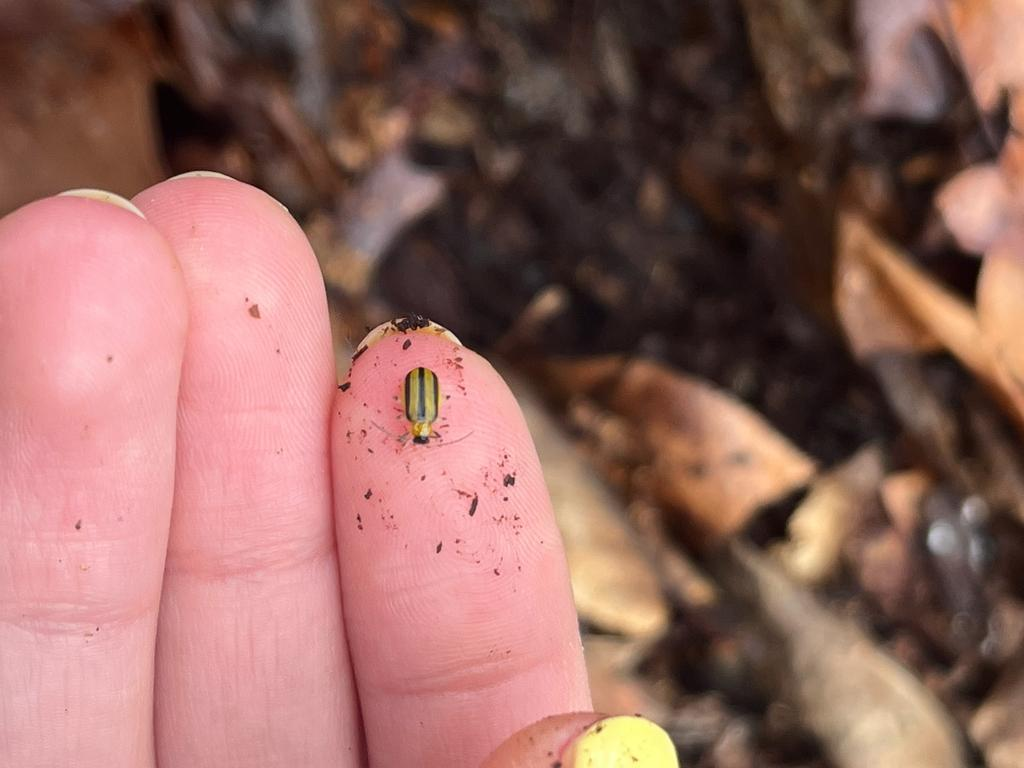potato_beetle: (363, 334, 479, 486)
